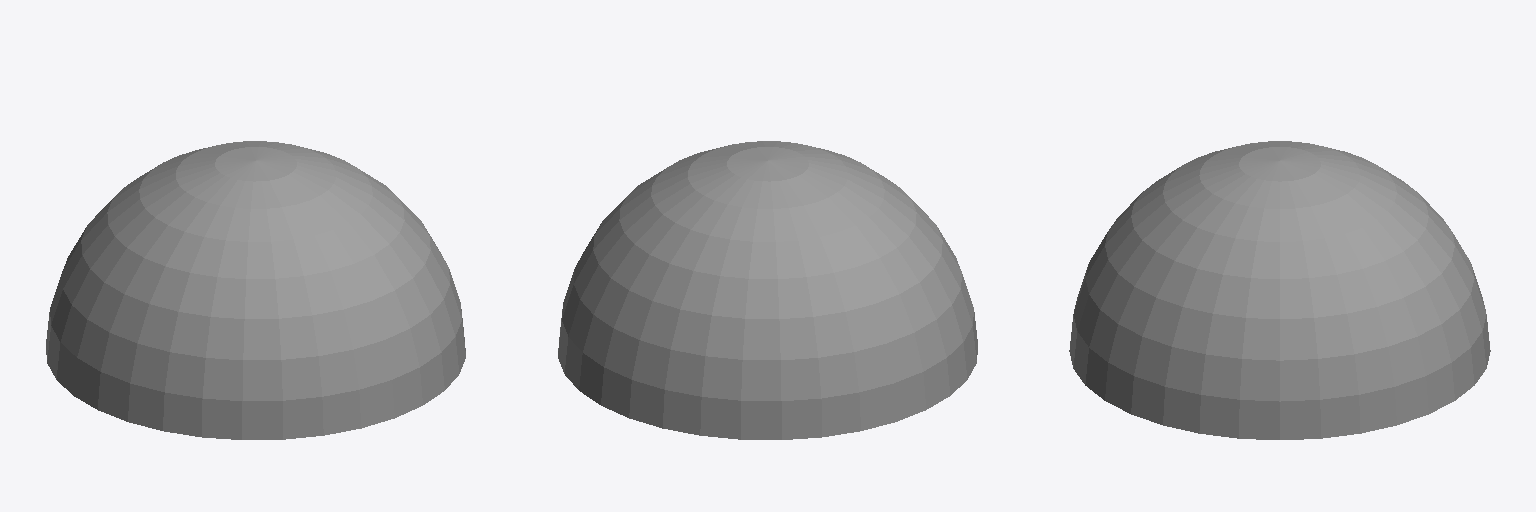
The model's file is sphereskybox.obj.
3 renders of one model, left to right at view 1: azimuth 30°, elevation 25°; view 2: azimuth 150°, elevation 25°; view 3: azimuth 270°, elevation 25°, orthographic.
Parts seen in each view (by area): view 1: Sphere; view 2: Sphere; view 3: Sphere.
Part boxes in pixels (x1,y1,x2,y2): Sphere: (46, 141, 465, 439); Sphere: (558, 141, 977, 439); Sphere: (1069, 141, 1490, 439).
Bounding box in the file's own units: 13.65 × 6.82 × 13.65.